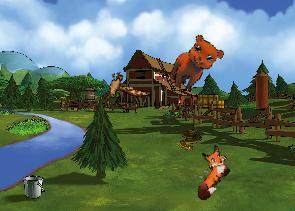bear: (165, 30, 227, 100)
eagle: (94, 63, 150, 113)
fox: (179, 141, 239, 203)
